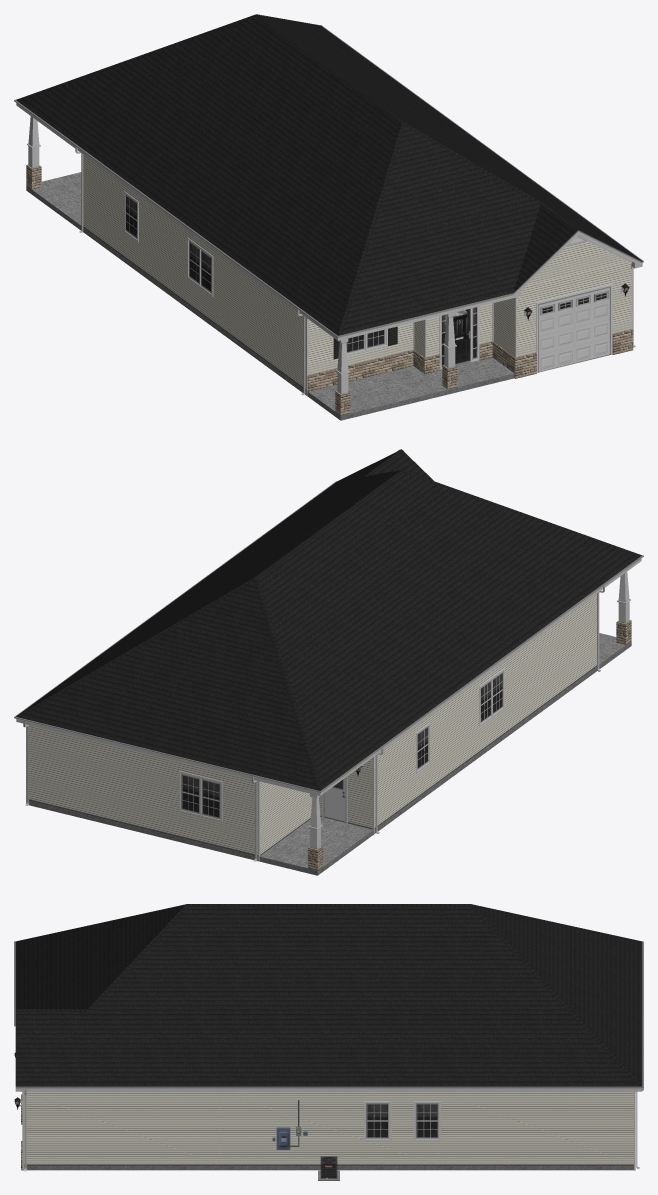
File: house3_mirror2.fbx
3 renders of one model, top to bottom at view 1: azimuth 30°, elevation 25°; view 2: azimuth 150°, elevation 25°; view 3: azimuth 270°, elevation 25°, orthographic. The views are drawn at different scales.
Visible parts, largest first — view 1: house3_mirror2_LOD0; view 2: house3_mirror2_LOD0; view 3: house3_mirror2_LOD0.
Part boxes in pixels (bbox=[...]): house3_mirror2_LOD0: bbox=[14, 14, 643, 420]; house3_mirror2_LOD0: bbox=[14, 449, 643, 875]; house3_mirror2_LOD0: bbox=[14, 904, 643, 1180].
Size of what is drawn, in the model's own units: 3.31 by 1.99 by 5.76.
